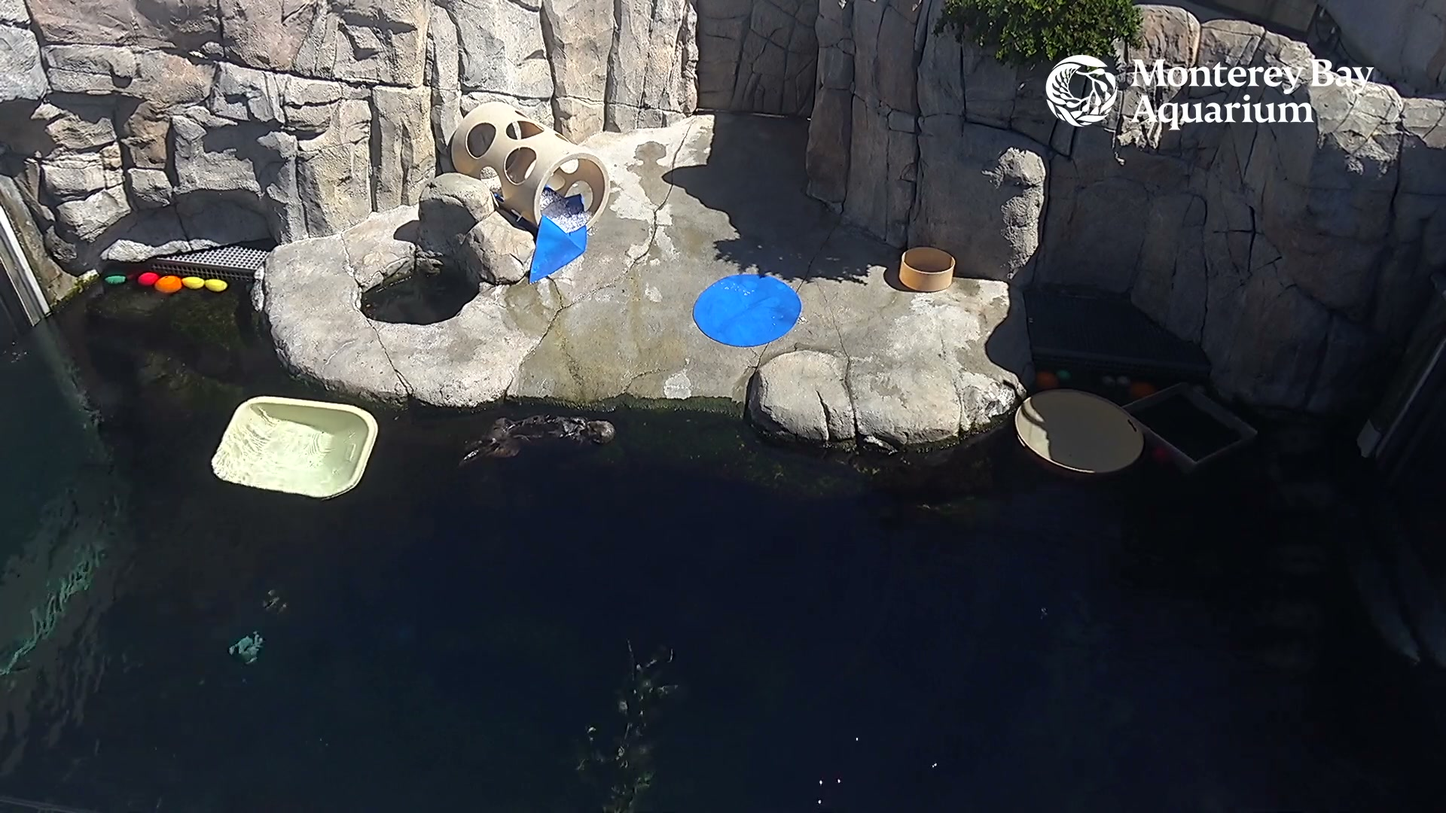Southern Sea Otter: (454, 373, 630, 499)
